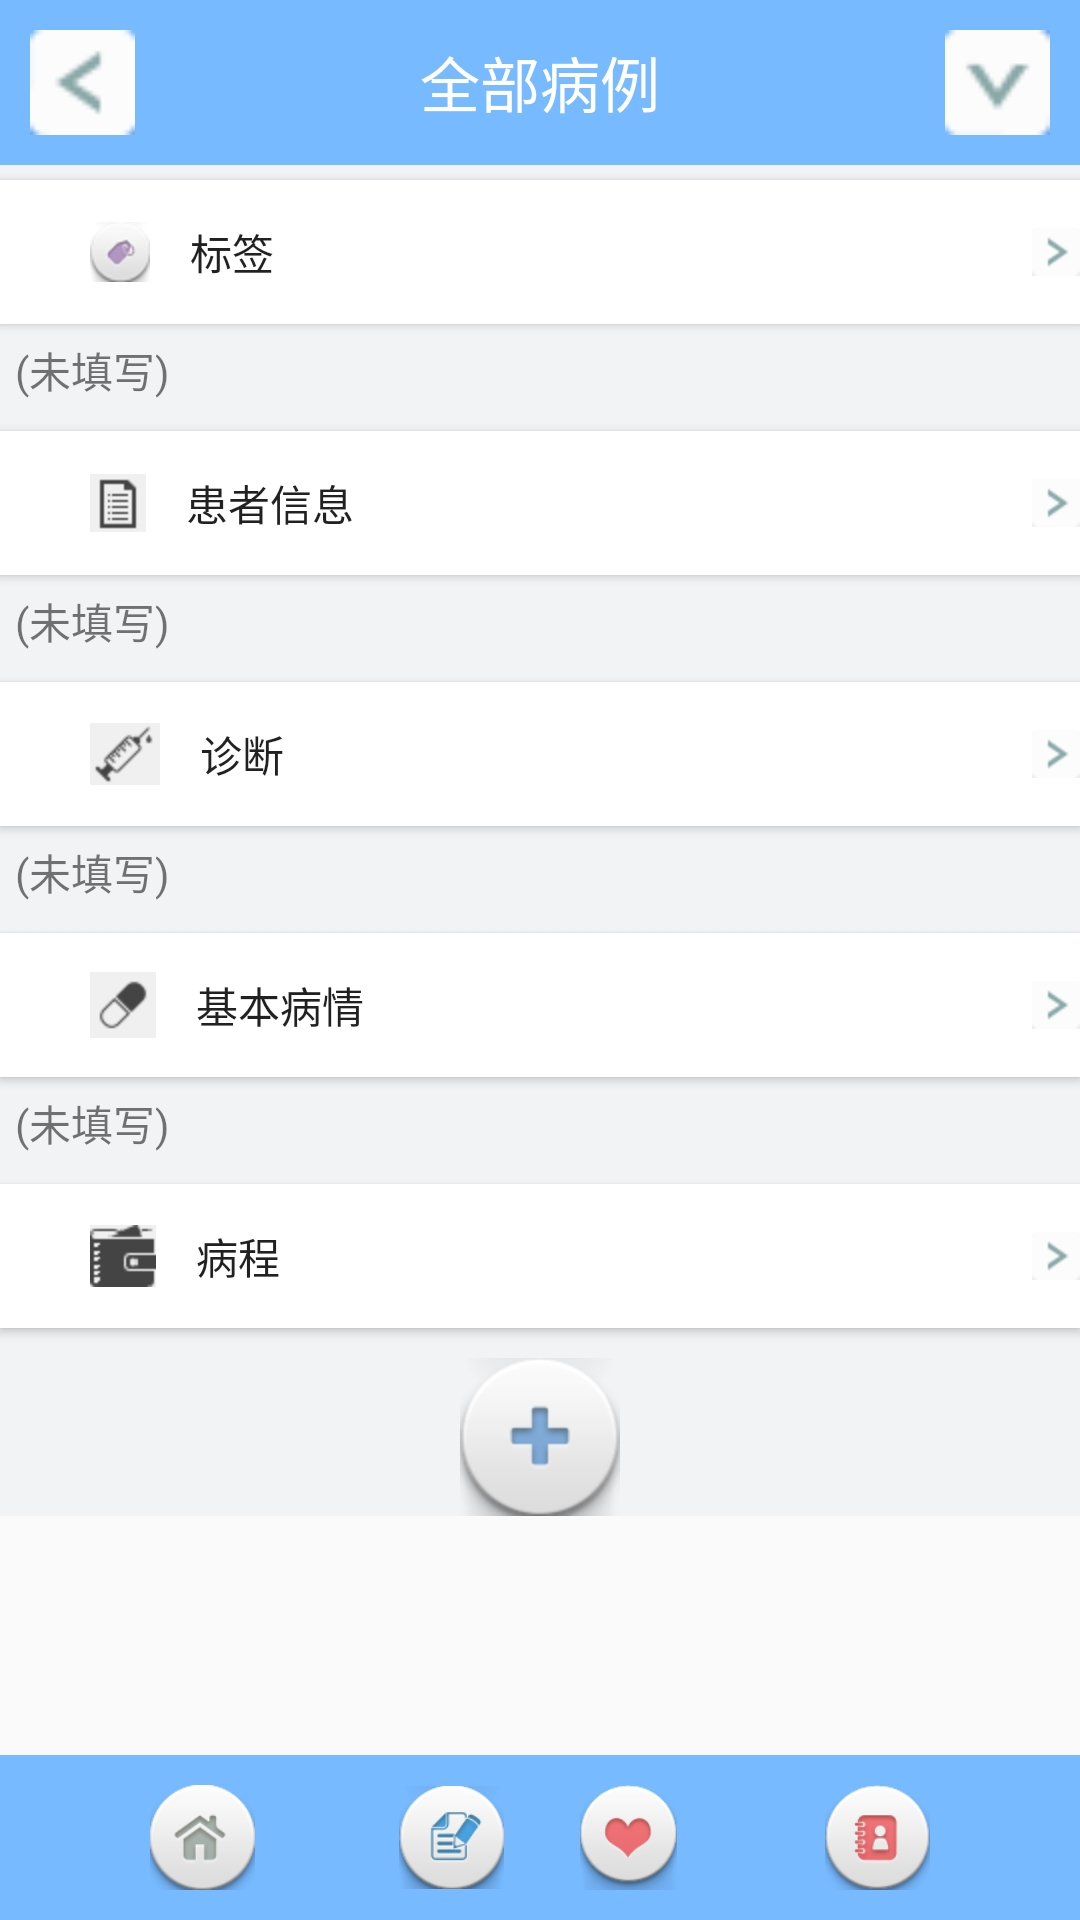

Icons on this 1080w x 1920h Android screen, each with the point to tap as point (x, y):
add: point (540, 1461)
heart: point (628, 1837)
home: point (202, 1837)
left: point (82, 82)
xia: point (997, 82)
